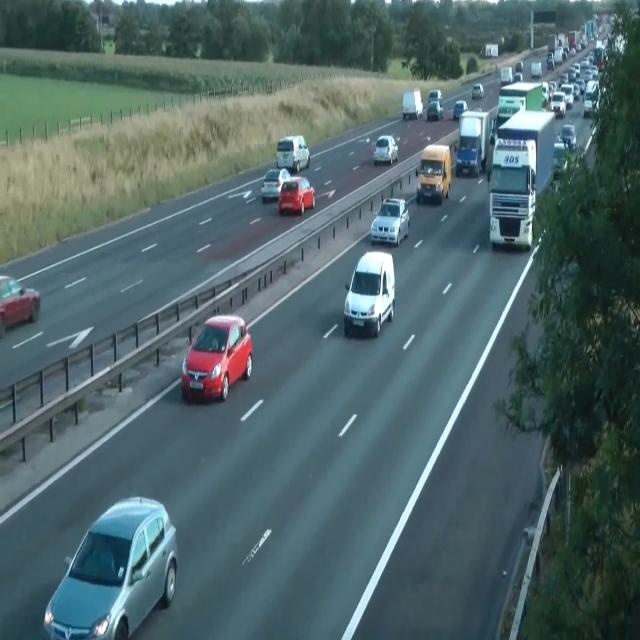bus: (43, 495, 178, 639), (181, 314, 253, 402), (0, 274, 40, 333), (278, 174, 315, 215), (490, 105, 518, 143), (260, 167, 290, 202), (372, 134, 398, 166), (552, 134, 568, 177), (560, 124, 576, 151), (426, 100, 444, 121), (453, 100, 467, 120), (472, 82, 484, 100), (428, 89, 442, 103), (530, 62, 542, 78), (546, 52, 555, 70), (515, 60, 523, 72), (514, 72, 522, 83)
jeep: (343, 250, 395, 337), (415, 143, 451, 205), (370, 196, 410, 246), (276, 134, 310, 172)
minibus: (488, 108, 556, 250), (455, 106, 497, 177), (497, 80, 549, 127), (401, 89, 423, 119), (500, 66, 513, 85), (485, 44, 499, 58)
